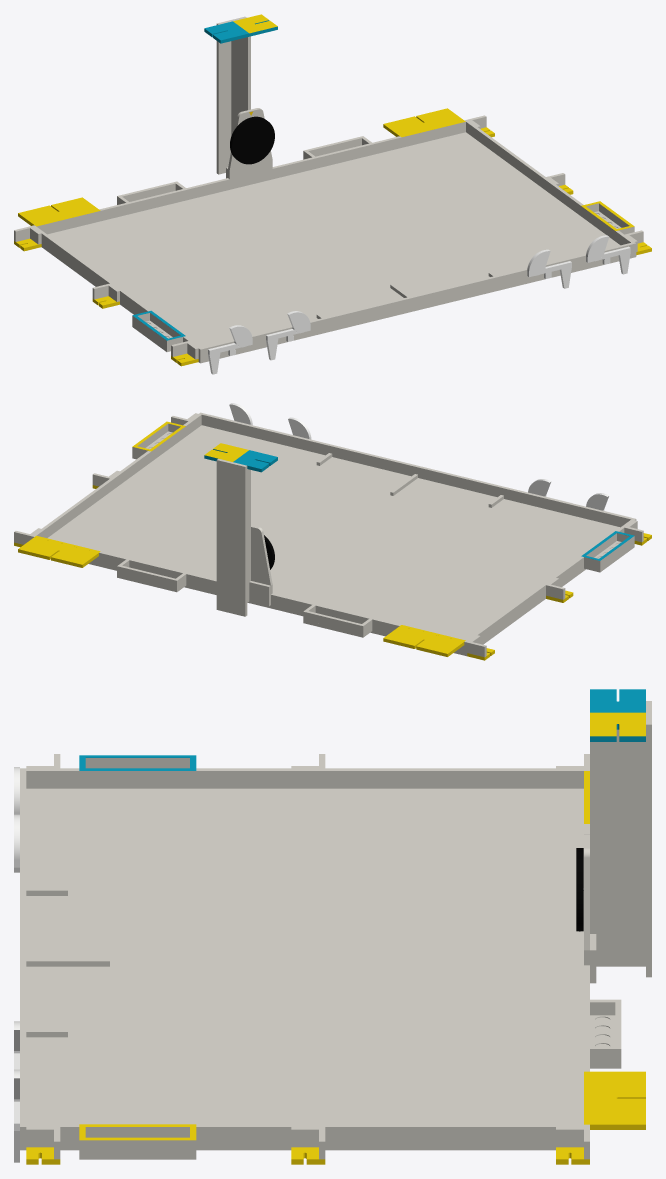
The model's file is Table2020 v1 - flag edited 1.fbx.
3 renders of one model, top to bottom at view 1: azimuth 30°, elevation 25°; view 2: azimuth 150°, elevation 25°; view 3: azimuth 270°, elevation 25°, orthographic. The views are drawn at different scales.
Visible parts, largest first — view 1: Body1.009, Body1.006, Body1.005, Body1.008, Body1.029, Body1.007, Body1.028, Body1.063, Body1.030, Body2, Body2.001, Body1.055 (+5 smaller); view 2: Body1.009, Body1.006, Body1.029, Body1.005, Body1.008, Body1.007, Body2.001, Body2, Body1.030, Body1.055, Body1.032, Body1.001 (+2 smaller); view 3: Body1.009, Body1.028, Body1.007, Body1.008, Body2, Body1.030, Body1.006, Body1.037, Body1.029, Body1.042, Body1.067, Body1.066 (+4 smaller).
Part boxes in pixels (bbox=[...]): Body1.009: bbox=[47, 132, 620, 347]; Body1.006: bbox=[202, 243, 633, 362]; Body1.005: bbox=[36, 122, 465, 234]; Body1.008: bbox=[464, 119, 636, 257]; Body1.029: bbox=[216, 16, 246, 174]; Body1.007: bbox=[32, 225, 203, 363]; Body1.028: bbox=[231, 36, 250, 135]; Body1.063: bbox=[232, 118, 274, 164]; Body1.030: bbox=[204, 14, 277, 43]; Body2: bbox=[383, 108, 463, 136]; Body2.001: bbox=[18, 197, 98, 225]; Body1.055: bbox=[228, 108, 272, 179]; Body1.009: bbox=[47, 425, 619, 640]; Body1.006: bbox=[201, 413, 632, 527]; Body1.029: bbox=[216, 458, 247, 616]; Body1.005: bbox=[88, 551, 464, 655]; Body1.008: bbox=[31, 412, 202, 538]; Body1.007: bbox=[464, 518, 636, 656]; Body2.001: bbox=[383, 626, 464, 656]; Body2: bbox=[18, 537, 98, 567]; Body1.030: bbox=[204, 443, 277, 472]; Body1.055: bbox=[251, 525, 272, 594]; Body1.032: bbox=[303, 610, 364, 634]; Body1.001: bbox=[117, 565, 178, 588]; Body1.009: bbox=[26, 788, 583, 1124]; Body1.028: bbox=[590, 729, 645, 966]; Body1.007: bbox=[20, 768, 589, 788]; Body1.008: bbox=[20, 1124, 589, 1150]; Body2: bbox=[590, 1071, 645, 1129]; Body1.030: bbox=[590, 689, 645, 741]; Body1.006: bbox=[20, 771, 26, 1124]; Body1.037: bbox=[79, 1140, 196, 1154]; Body1.029: bbox=[646, 701, 651, 977]; Body1.042: bbox=[85, 758, 189, 768]; Body1.067: bbox=[79, 1124, 196, 1140]; Body1.066: bbox=[79, 755, 196, 770].
Bounding box in the file's own units: 329 × 111 × 229.
